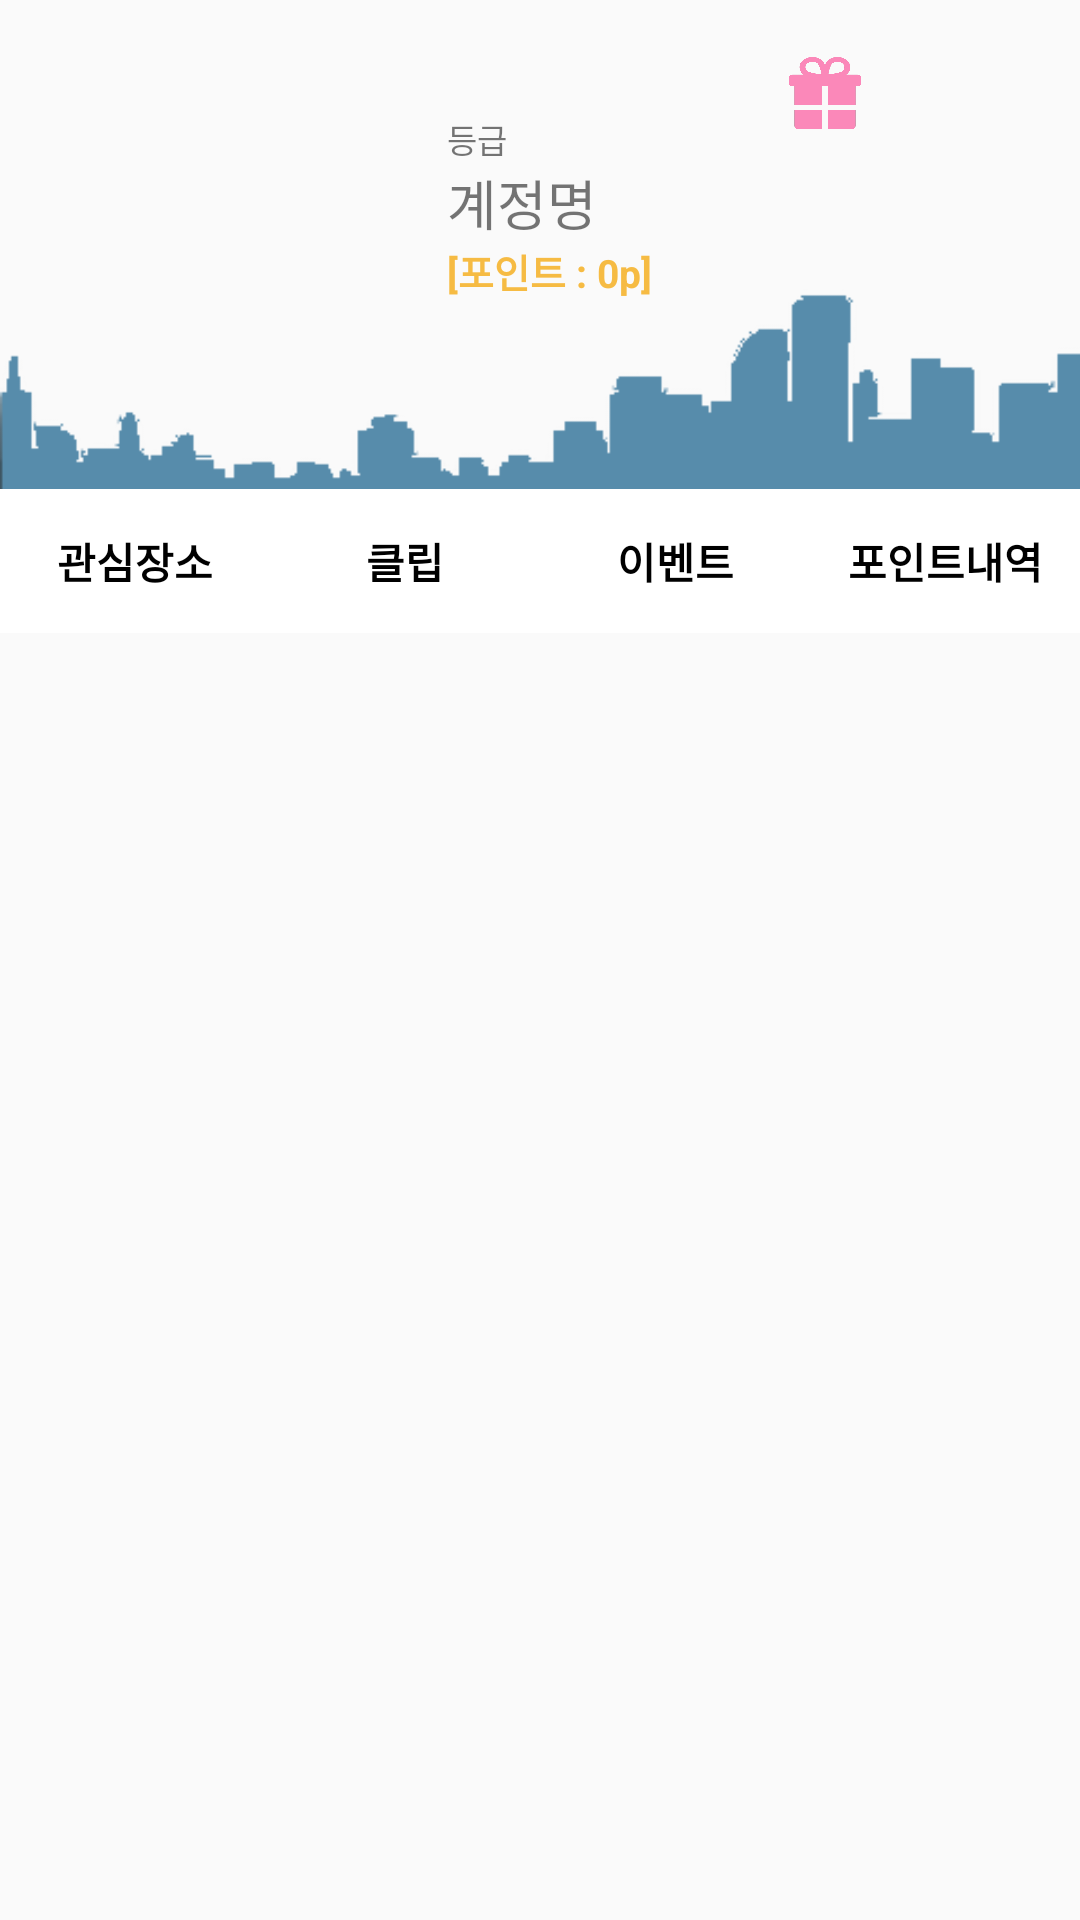

Where icons sit on this 1080px×1920px app screen, as (x1, y1, x2, y2):
gift: (789, 57, 861, 129)
